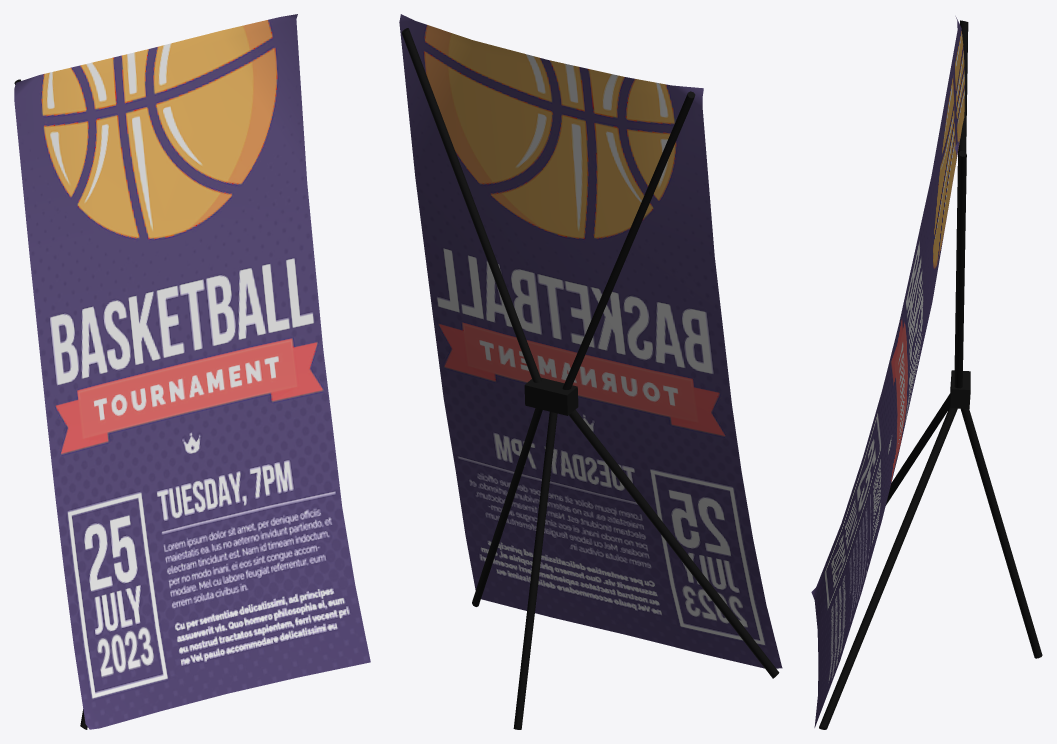
The model's file is 0_Other_0016_2.fbx.
3 renders of one model, left to right at view 1: azimuth 30°, elevation 25°; view 2: azimuth 150°, elevation 25°; view 3: azimuth 270°, elevation 25°, orthographic. The views are drawn at different scales.
Visible parts, largest first — view 1: Other_0016_2; view 2: Other_0016_2; view 3: Other_0016_2.
Part boxes in pixels (left/top/right/bottom): Other_0016_2: left=14, top=14, right=370, bottom=729; Other_0016_2: left=399, top=14, right=782, bottom=729; Other_0016_2: left=811, top=16, right=1042, bottom=729.
Size of the model in its own units: 123 by 247 by 88.7.
